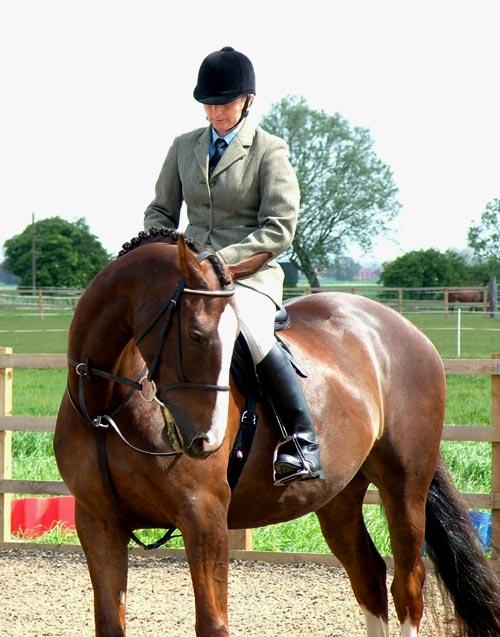person: (142, 48, 324, 491)
